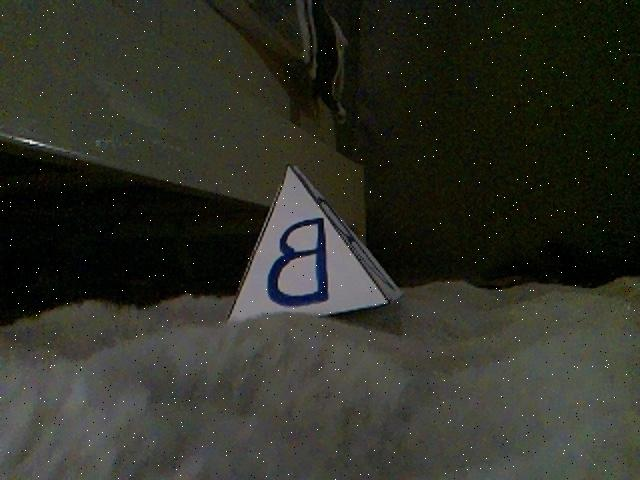B: (221, 164, 404, 333)
